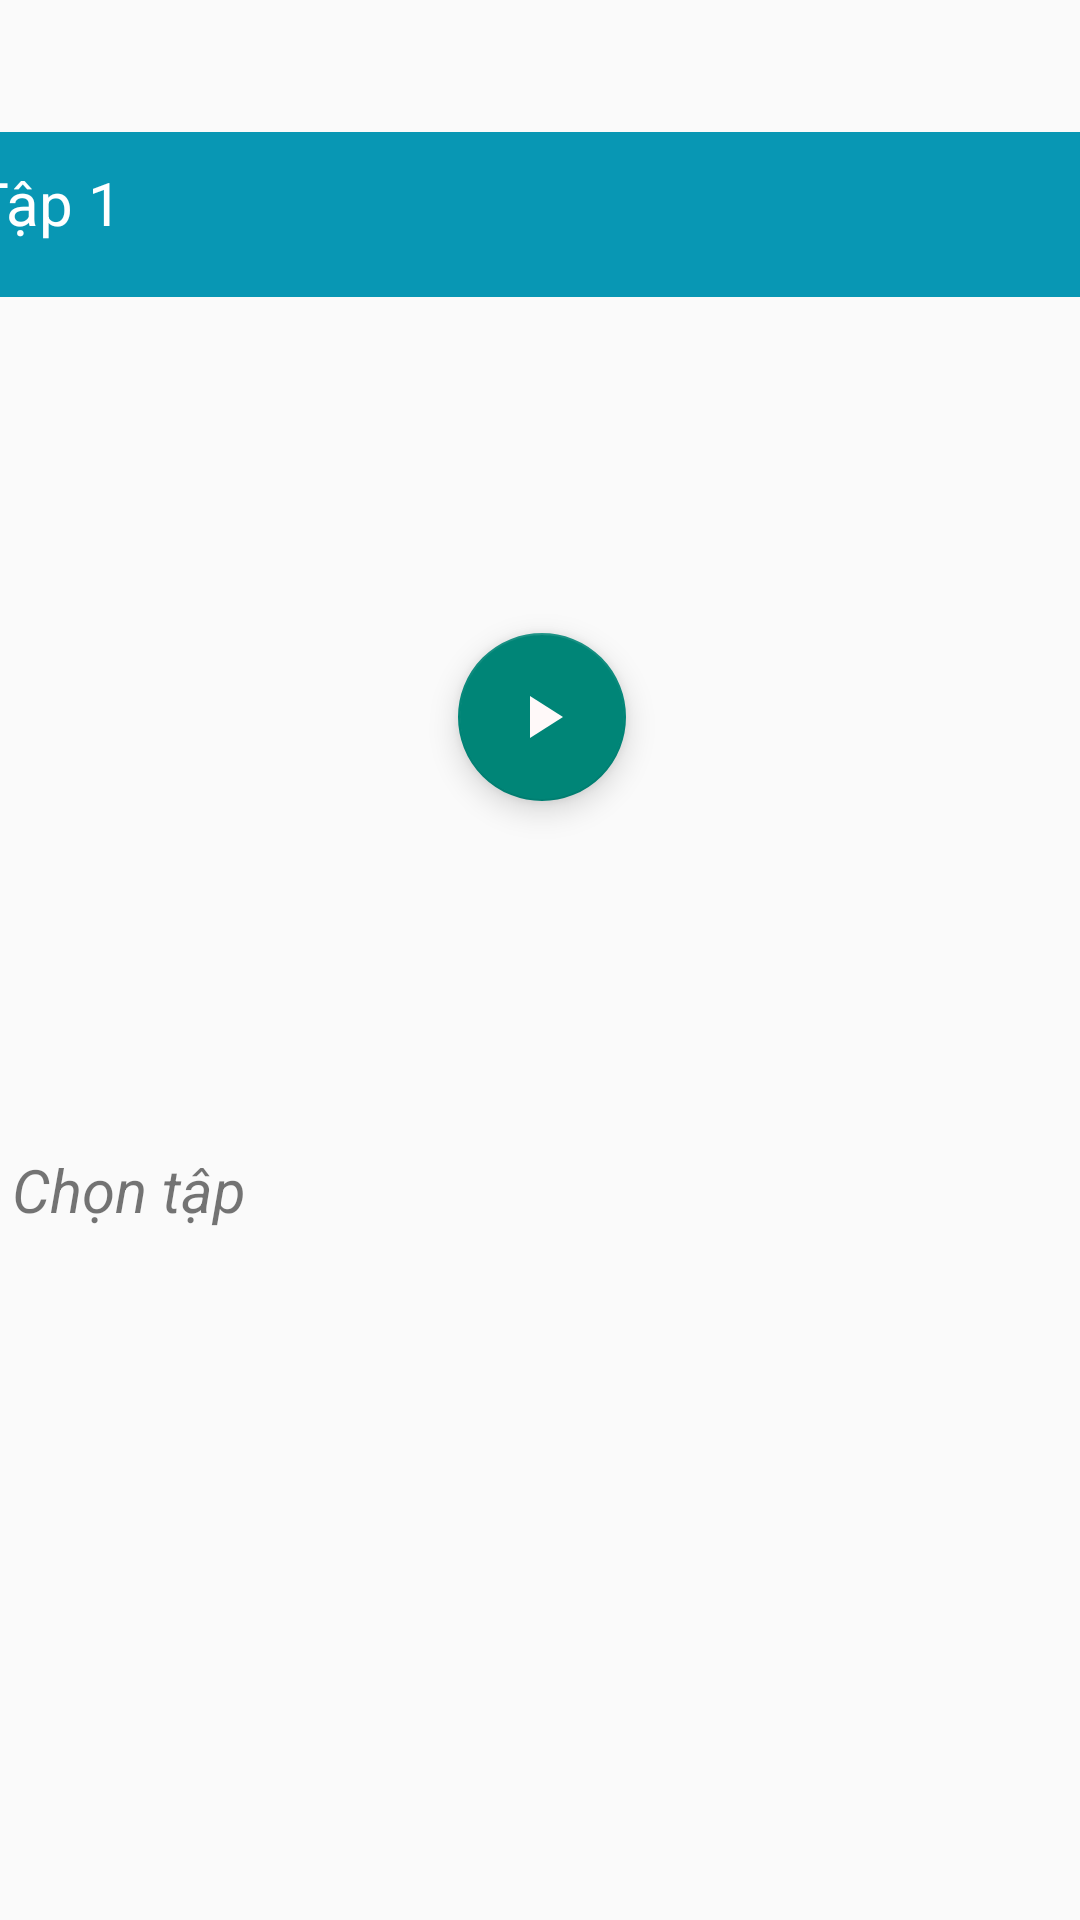

Named icons in this screenshot (1080w x 1920h) and their centers, (x,y):
play arrow: (542,717)
